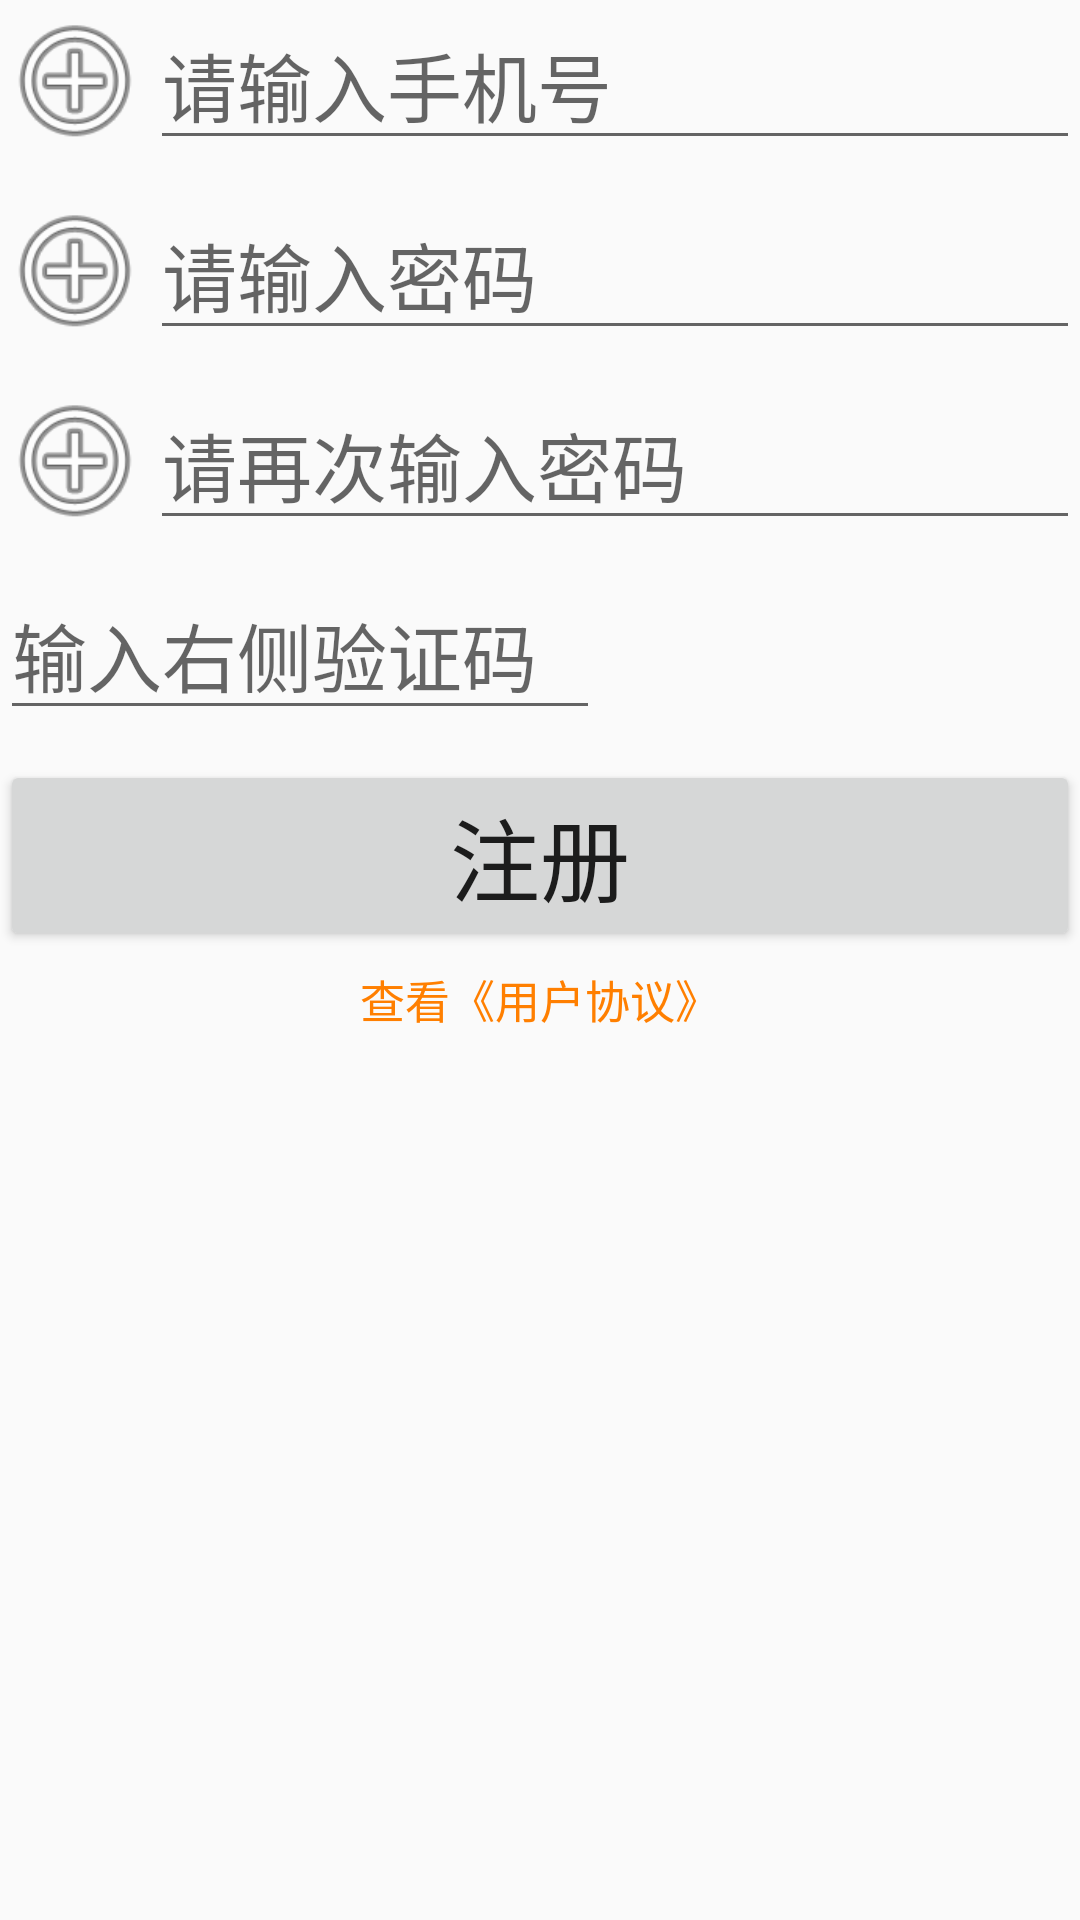

Where icons sit on this 1080x1920 app screen, as BBox(x1, y1, x2, y2):
add: BBox(19, 25, 131, 137), BBox(19, 215, 131, 327), BBox(19, 405, 131, 517)
